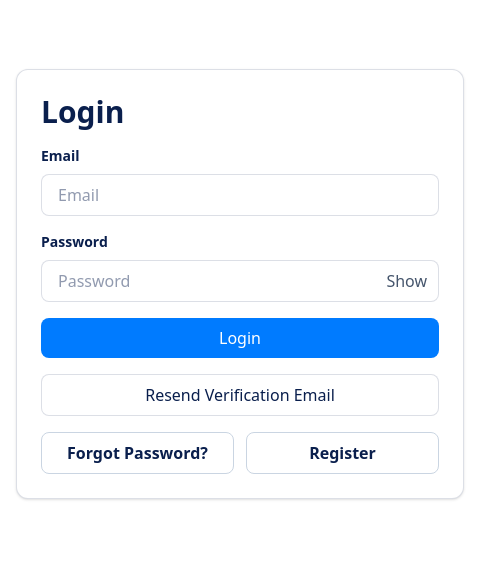
Test case: LoginPage › shows an error when email is empty
Type "Password123!" into the password field with placeholder "Password".
click(240, 281); type("Password123!")  # box x1=41 y1=260 x2=439 y2=302
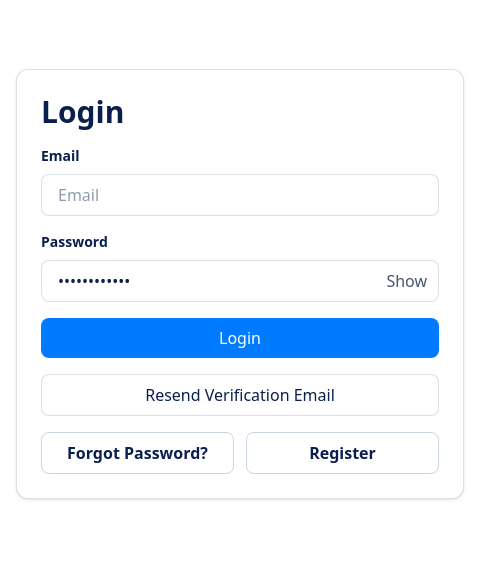
Click the button "Login".
click(240, 338)  # box x1=41 y1=318 x2=439 y2=358
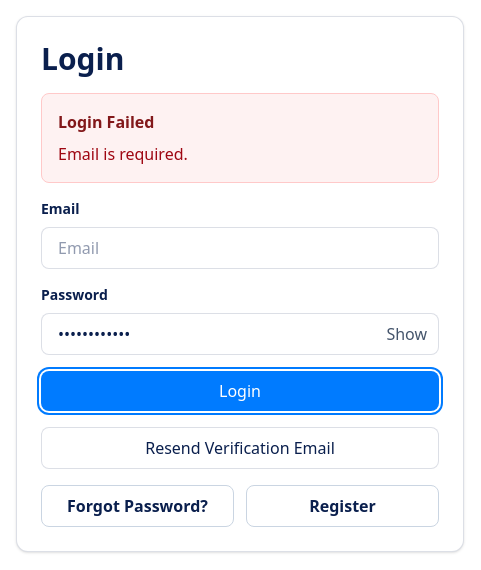
Expected: the text "Email is required." is shown, x1=58 y1=143 x2=188 y2=165
